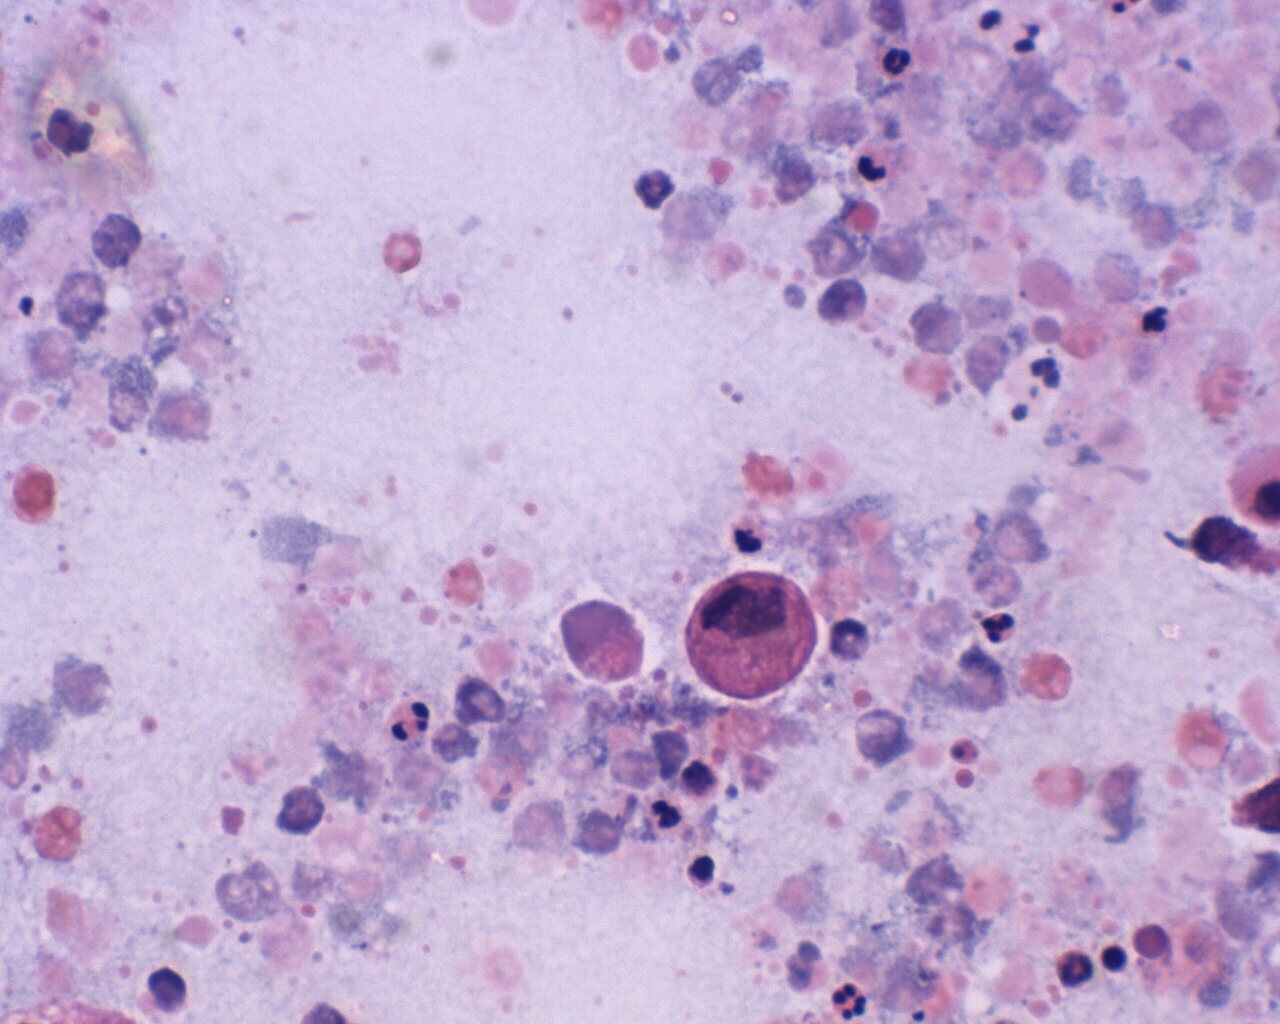ab: (677, 563, 818, 705)
neutro: (854, 141, 901, 185), (872, 43, 921, 82), (828, 982, 872, 1022)
